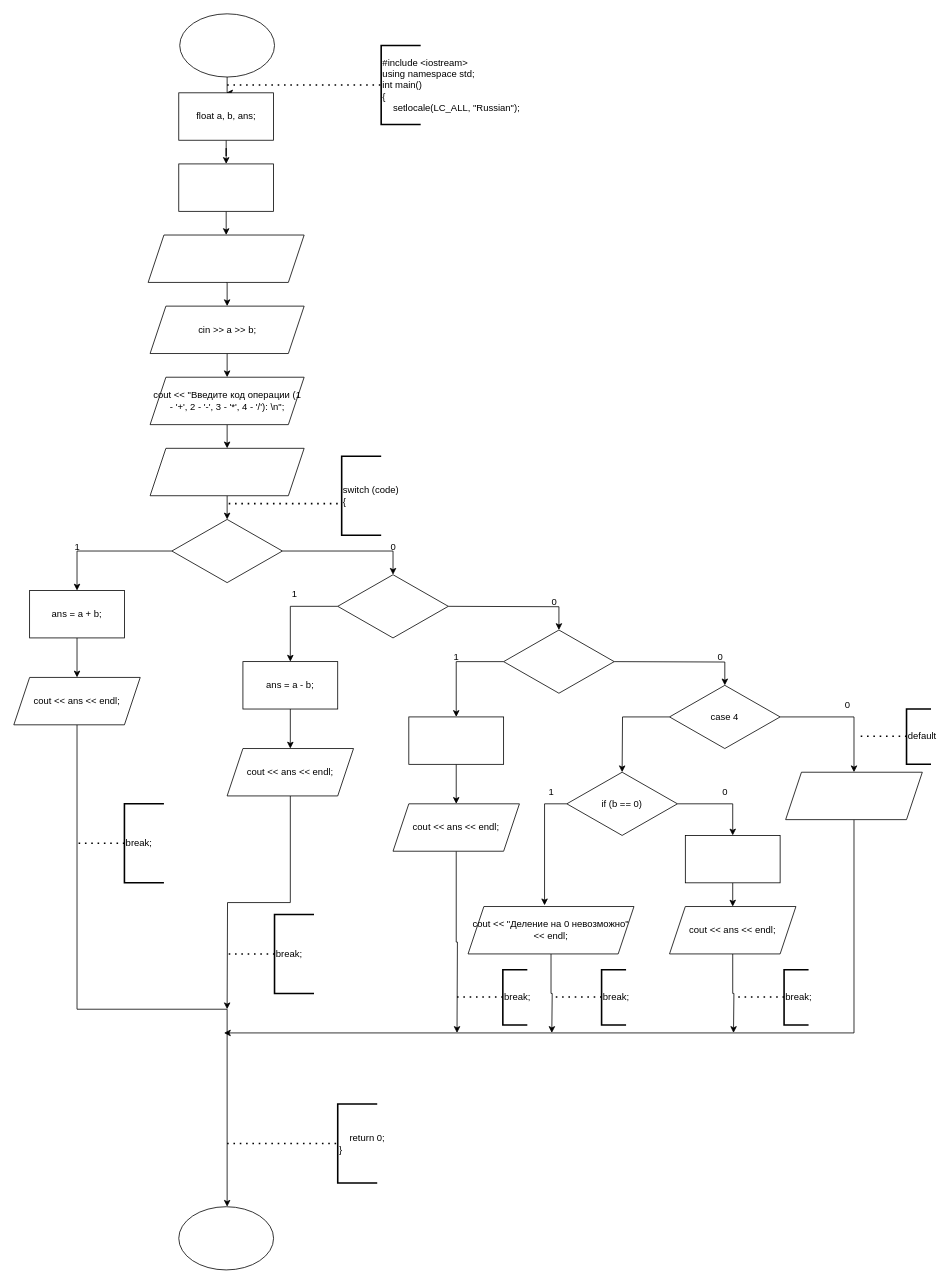
Some shapes in this 950 by 1284 pixel diagram are drawn without their labels. Here are the shapes that lost their labels. From the top down, the centre of each, then its label:
(x=227, y=45): Начало
(x=226, y=187): int code;
(x=225, y=258): cout << "Введите 2 числа, по одному в каждой строке: \n";
(x=226, y=472): cin >> code;
(x=226, y=551): case 1
(x=392, y=606): case 2
(x=558, y=661): case 3
(x=456, y=740): ans = a * b;
(x=853, y=795): cout << "Неверный код операции \n";
(x=732, y=859): ans = a / b;
(x=226, y=1238): Конец
